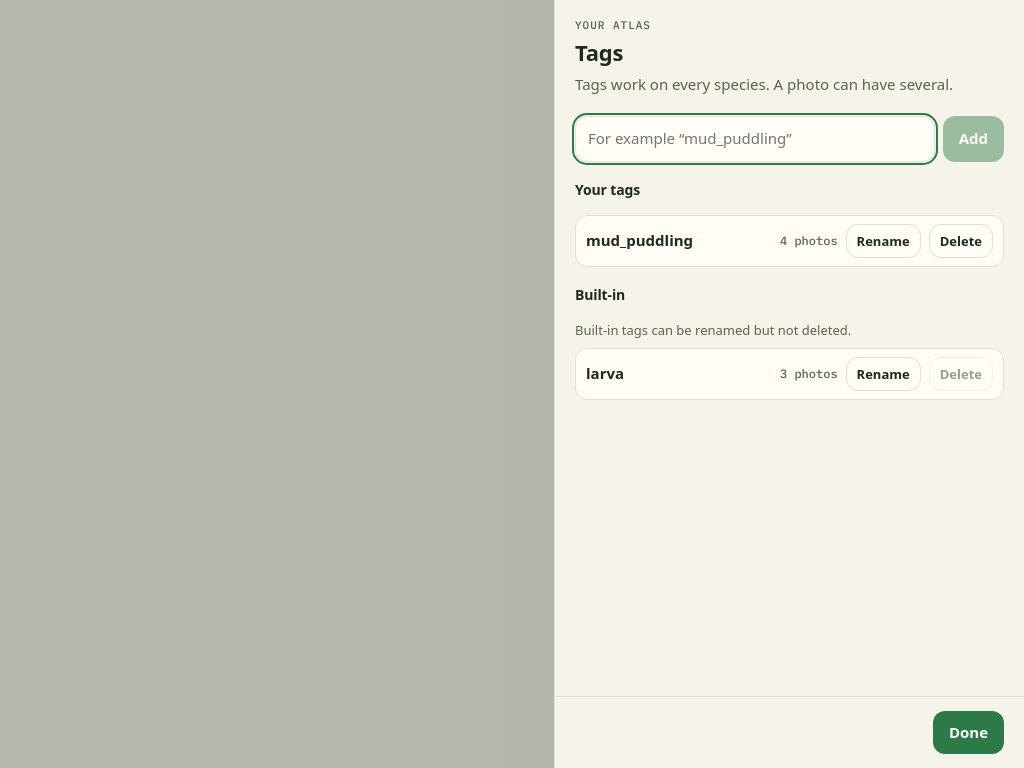
deleting a user tag says how many photos carry it first
expect the text "mud_puddling" is shown: met, box x1=586 y1=230 x2=693 y2=250
Click the button with aria-label "Delete mud_puddling": [961, 241] box x1=929 y1=224 x2=993 y2=258
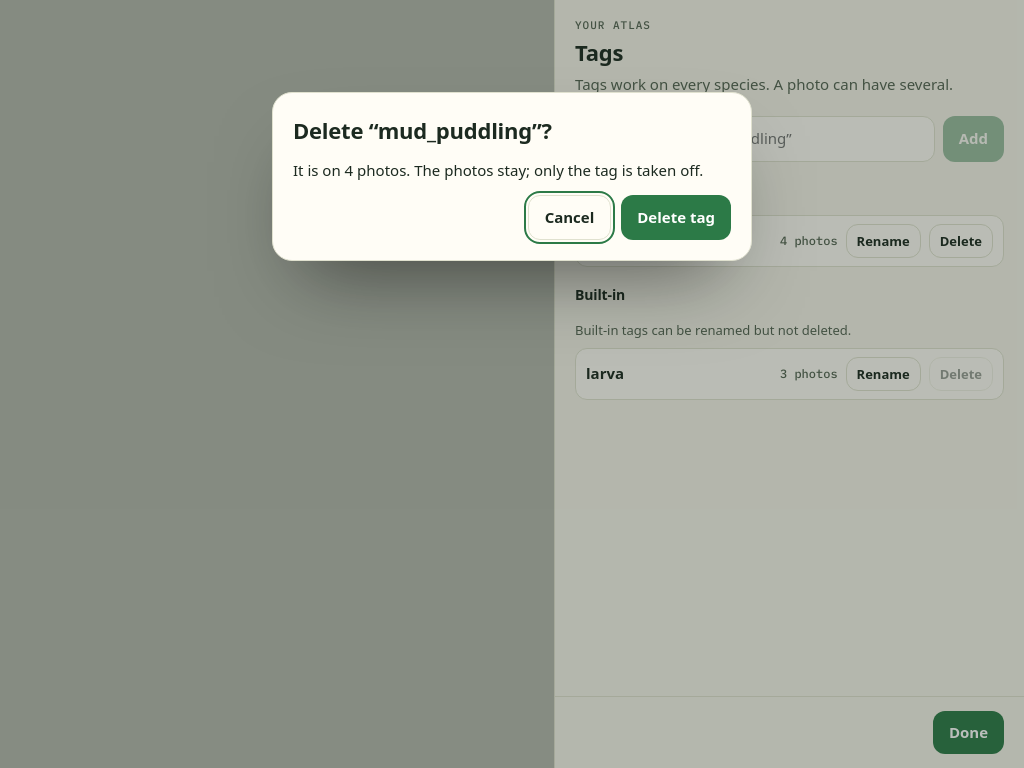
expect the dialog "Delete “mud_puddling”?" shows "It is on 4 photos. The photos stay; only the tag is taken off.": met, box x1=293 y1=160 x2=703 y2=180
Click the button "Delete tag": [676, 217] box x1=621 y1=194 x2=731 y2=240
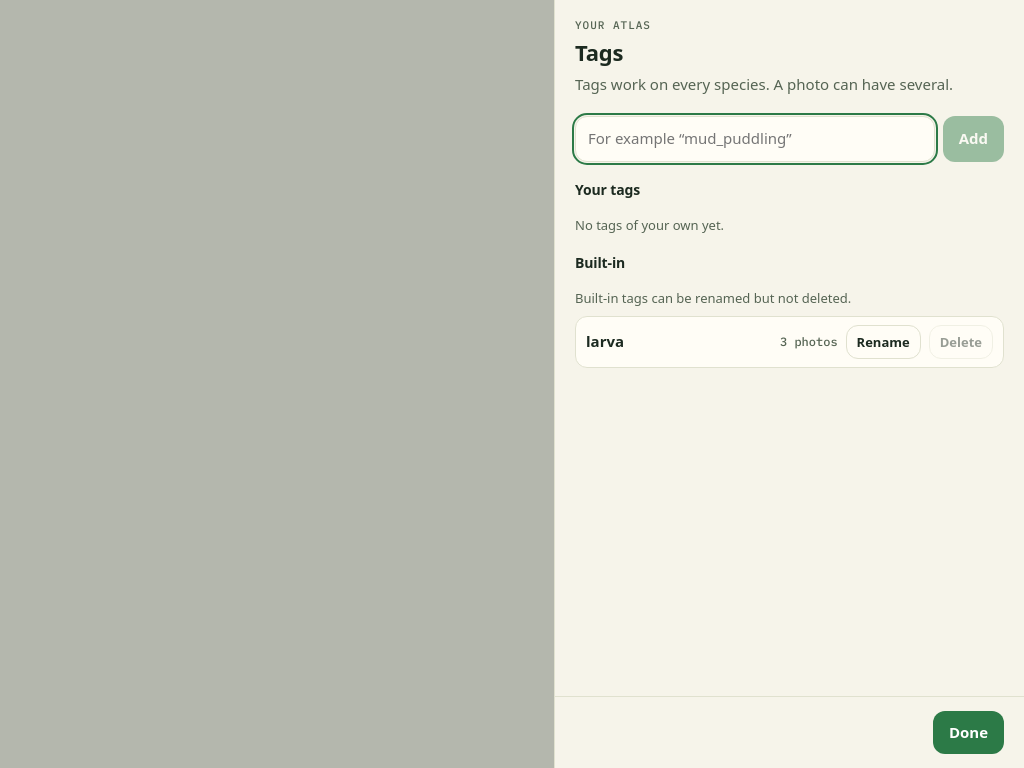
expect the text "No tags of your own yet." is shown: met, box x1=575 y1=216 x2=724 y2=234
